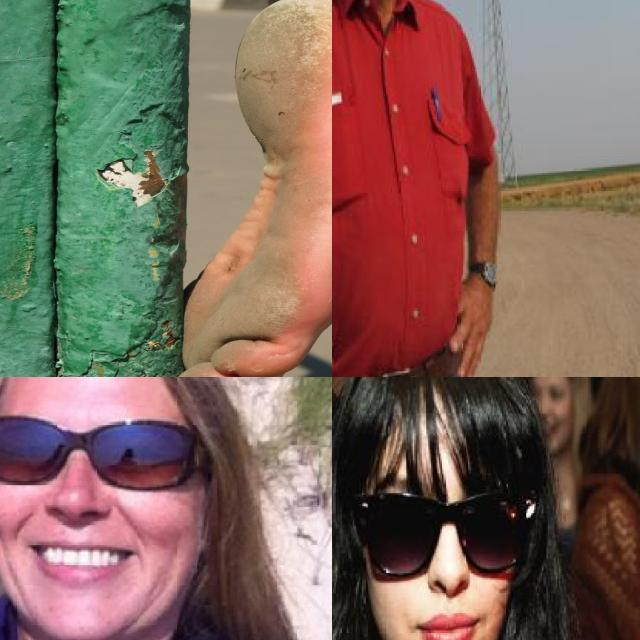Barefoots: (157, 0, 332, 377)
face_nomask: (0, 408, 212, 602), (354, 489, 521, 640)
glasses: (353, 469, 528, 580), (0, 411, 192, 500)
hand_noglove: (432, 273, 516, 373)
head_nohelmet: (342, 377, 530, 440)
person: (332, 377, 640, 640), (332, 0, 507, 377), (569, 377, 640, 640)
